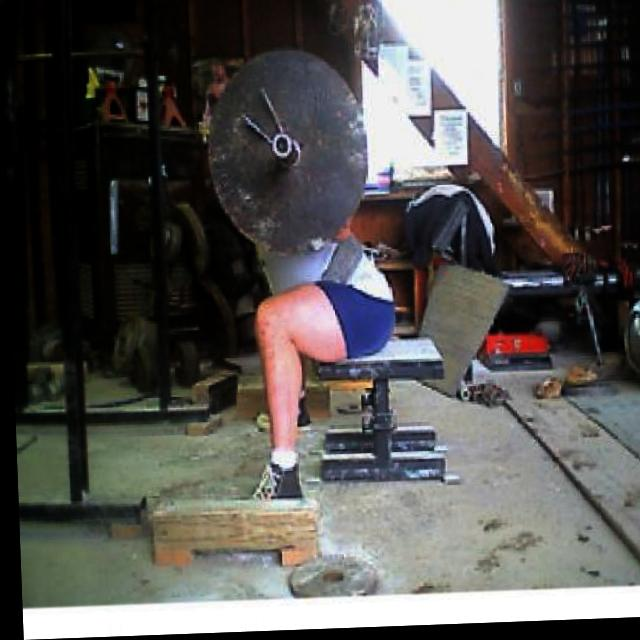barbell: (194, 43, 375, 260)
